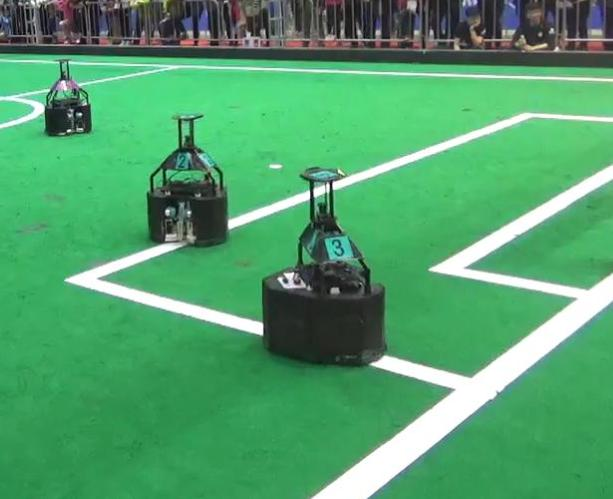robot: (259, 164, 390, 366), (139, 110, 235, 249), (43, 58, 96, 137)
